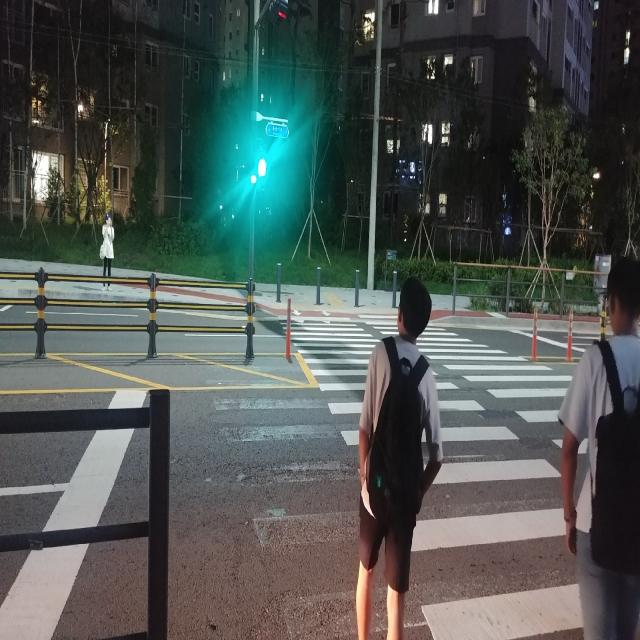초록불: (253, 136, 267, 191)
횡단보도: (276, 308, 592, 639)
